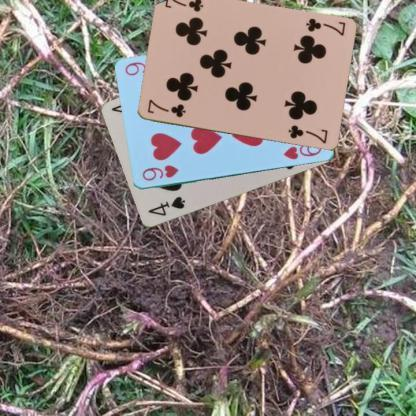4s: (145, 194, 187, 218)
7c: (302, 15, 346, 38), (144, 97, 186, 119)
9h: (139, 162, 180, 183)
